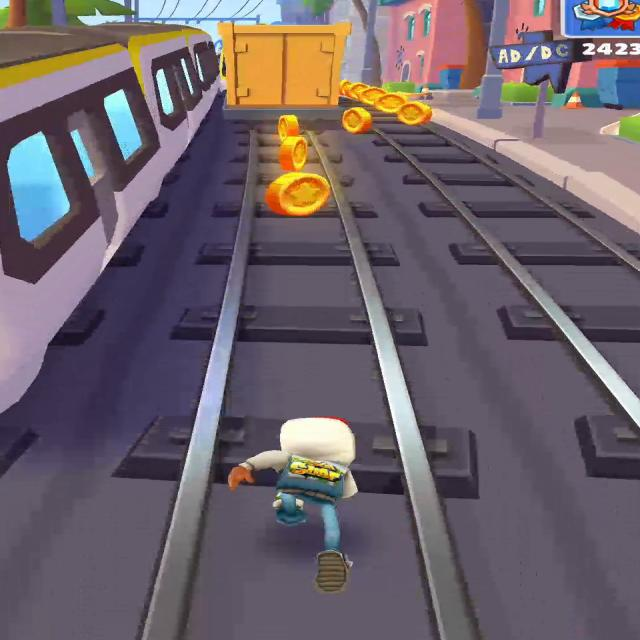train: (0, 19, 205, 403), (211, 23, 350, 119)
